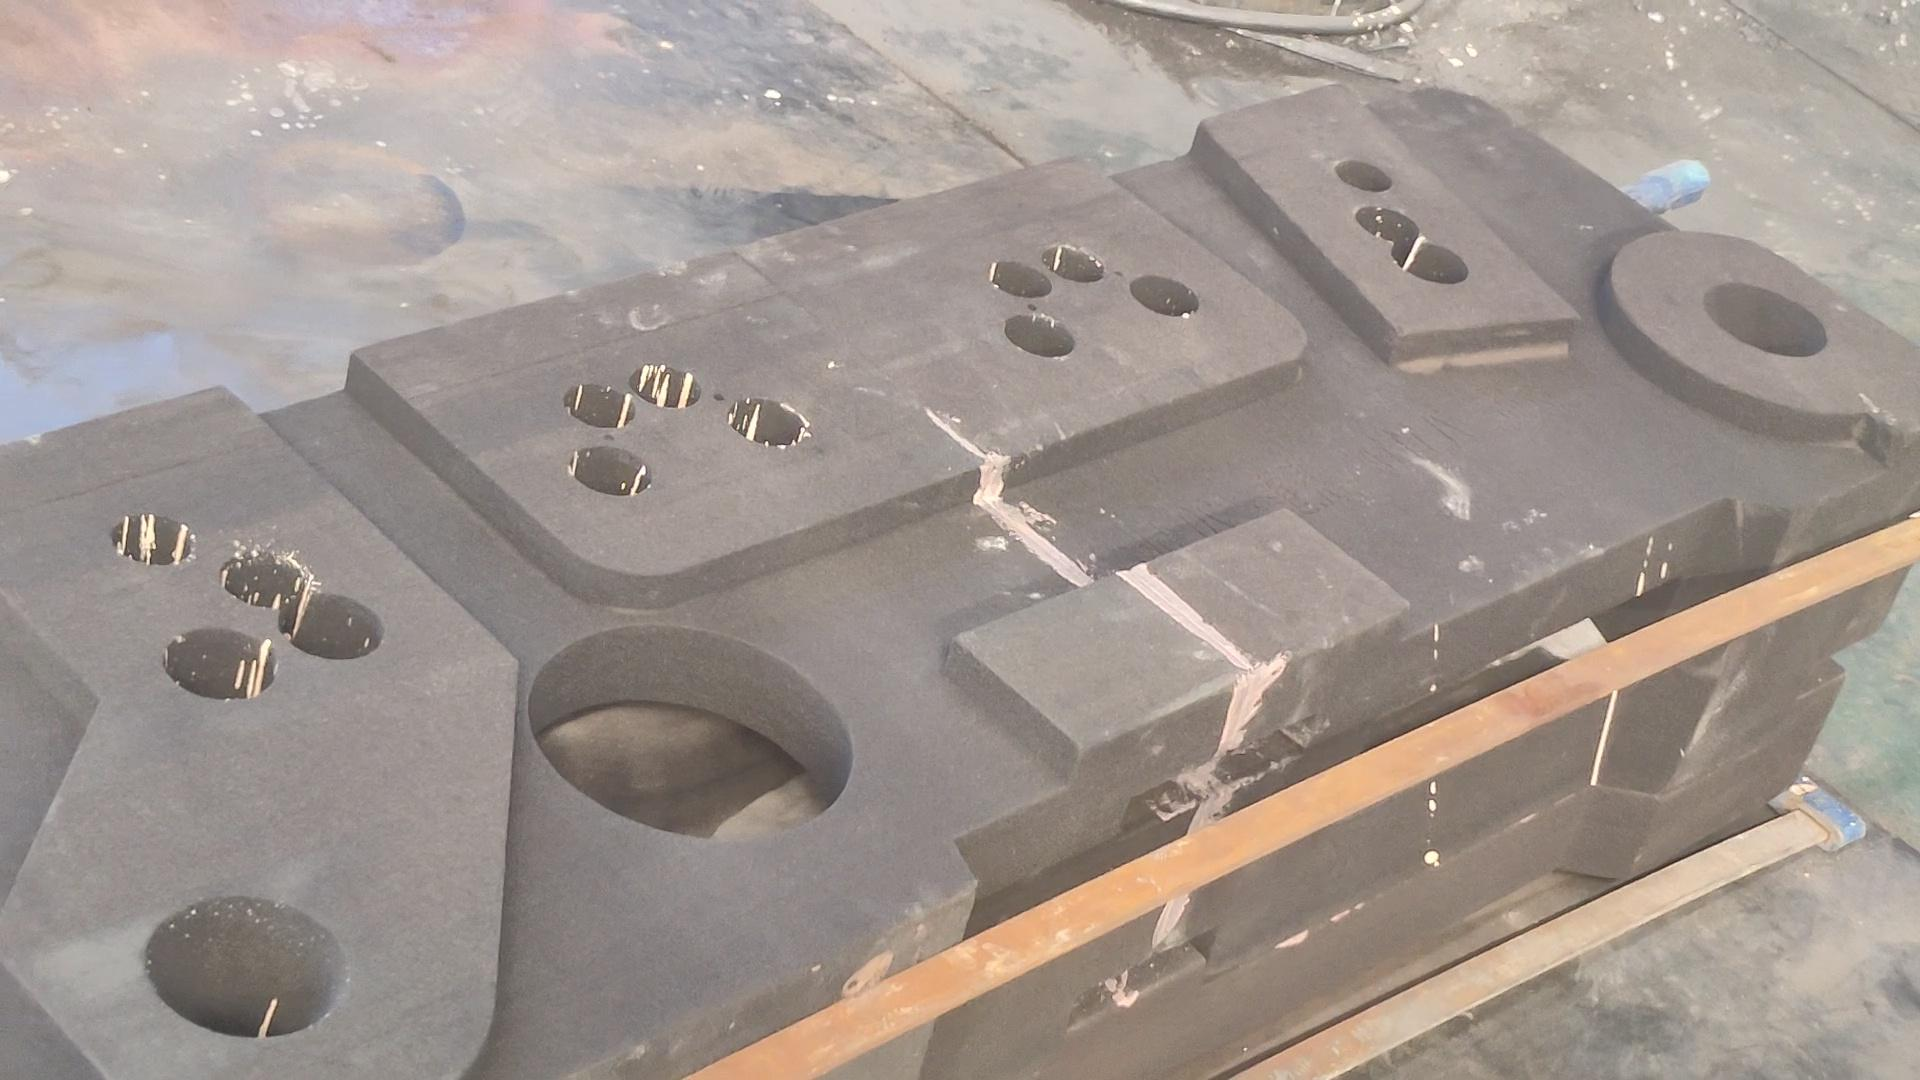pouring hole: (142, 895, 345, 1038), (1702, 281, 1829, 357)
